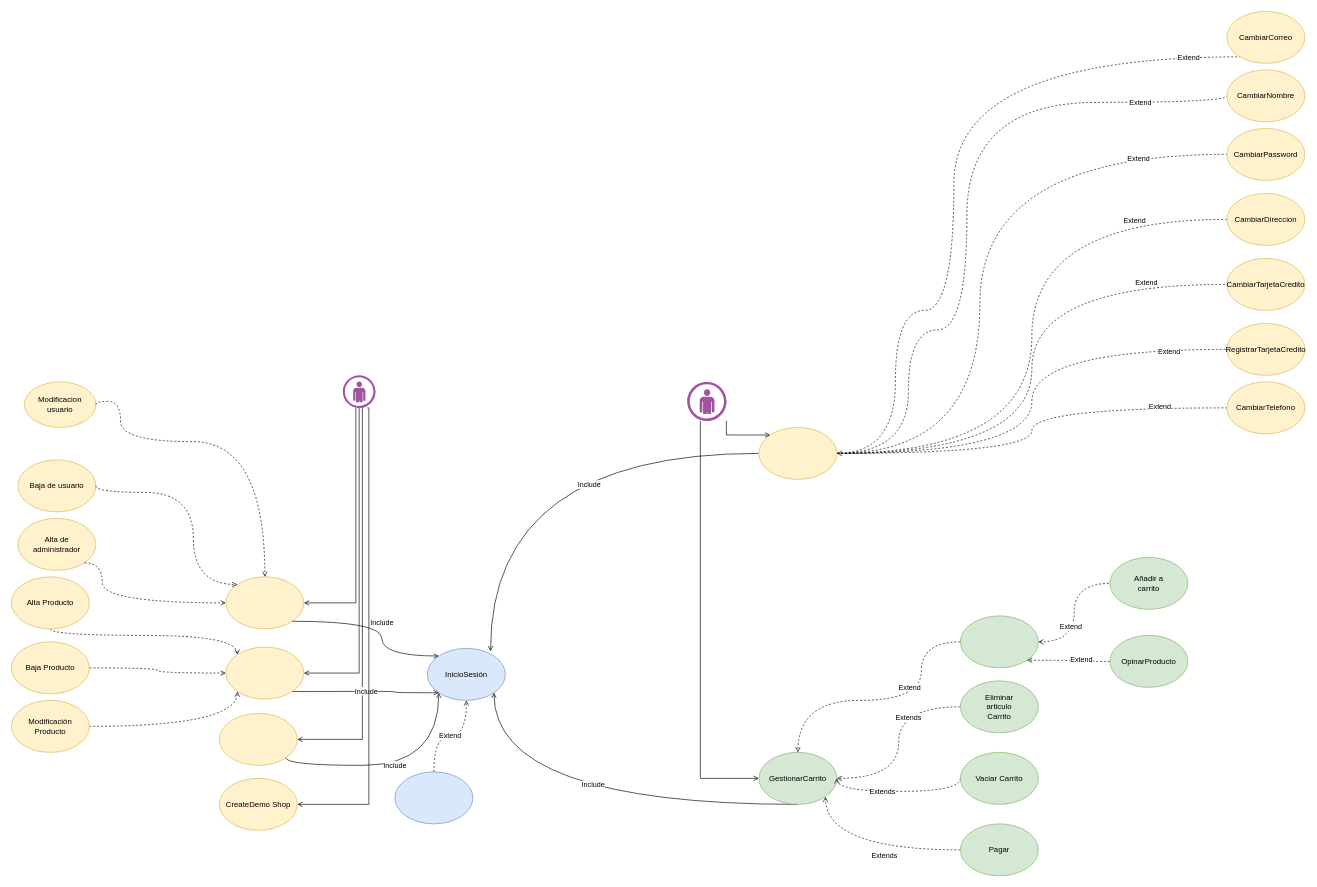
Image size: 1317x887. Some labels were removed from this diagram. The shapes that lost their labels are listed below. From the top down, each one's centre as x and y in pixels, then its label:
At [358,391]: "Administrador".
At [706,401]: "User".
At [797,453]: "GestionarCuenta".
At [264,602]: "ConsultarUsuarios".
At [999,641]: "Ver Producto".
At [264,672]: "ConsultarProductos".
At [258,739]: "Consulta ventas".
At [433,797]: "CrearUsuario".
